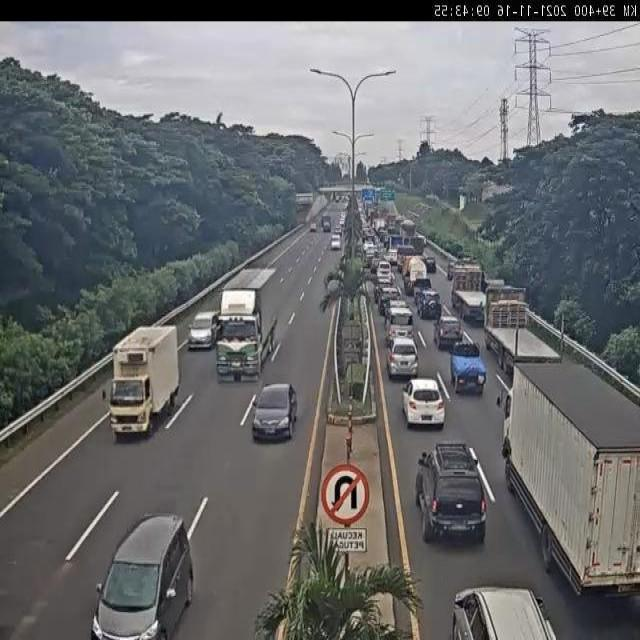Car: (90, 512, 193, 638), (416, 444, 488, 544), (448, 586, 562, 639), (252, 382, 298, 442), (401, 376, 445, 428), (386, 336, 420, 379), (188, 310, 222, 350), (433, 315, 463, 351), (414, 286, 441, 319), (385, 304, 413, 334), (378, 286, 401, 316), (377, 261, 392, 283), (383, 250, 398, 270), (362, 240, 376, 260), (424, 254, 436, 274), (370, 254, 381, 273), (362, 225, 373, 242), (378, 227, 388, 245), (331, 234, 342, 250), (339, 212, 346, 230), (310, 222, 317, 232)
Truck: (501, 348, 639, 600), (110, 323, 180, 437), (215, 273, 277, 381), (449, 340, 487, 395), (484, 284, 526, 330), (404, 256, 428, 294), (321, 215, 331, 232)
